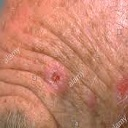Actinic: (48, 68, 65, 91)
